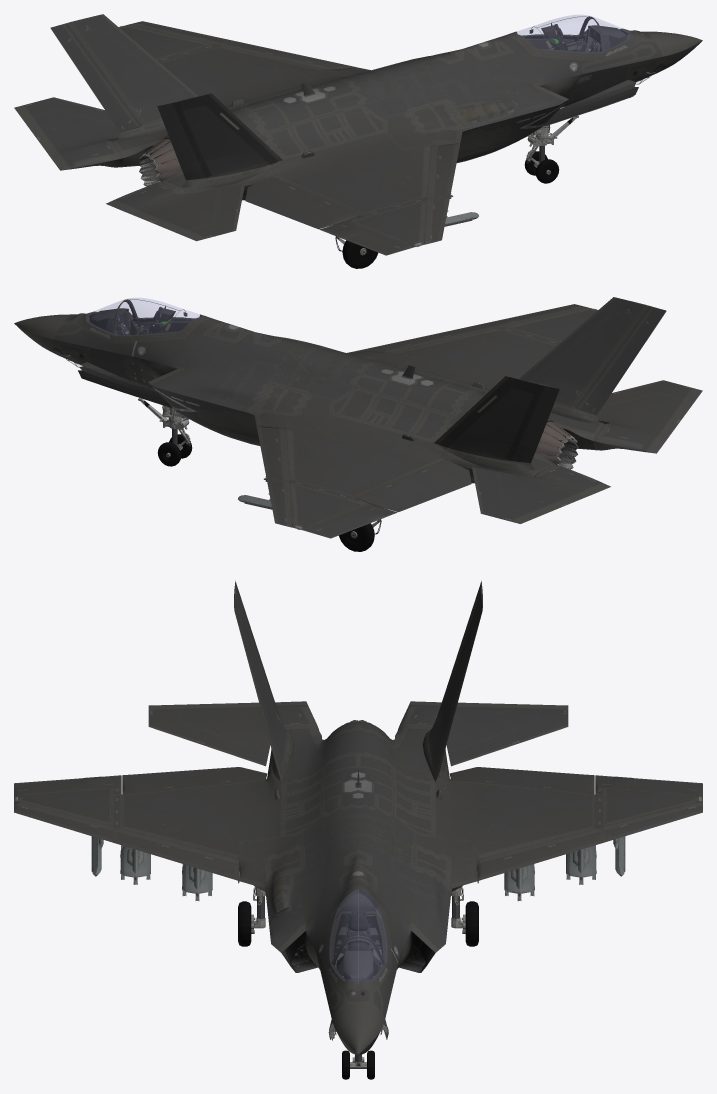
3 views of the same model, one above another, from view 1: azimuth 30°, elevation 25°; view 2: azimuth 150°, elevation 25°; view 3: azimuth 270°, elevation 25° (orthographic). The views are drawn at different scales.
Parts seen in each view (by area): view 1: f35c_airframe_0, f35c_landingOn_6, f35c_canopy_1, f35c_cockpit_2, f35c_refuelOff_8; view 2: f35c_airframe_0, f35c_landingOn_6, f35c_canopy_1, f35c_cockpit_2; view 3: f35c_airframe_0, f35c_cockpit_2, f35c_canopy_1, f35c_spw3_8agm_rail_11, f35c_landingOn_6.
Part boxes in pixels (<box>): f35c_airframe_0: <box>14,14,702,255</box>; f35c_landingOn_6: <box>335,79,638,268</box>; f35c_canopy_1: <box>516,15,630,52</box>; f35c_cockpit_2: <box>515,16,630,53</box>; f35c_refuelOff_8: <box>583,45,654,71</box>; f35c_airframe_0: <box>14,297,702,538</box>; f35c_landingOn_6: <box>78,362,381,551</box>; f35c_canopy_1: <box>87,298,200,335</box>; f35c_cockpit_2: <box>86,299,201,336</box>; f35c_airframe_0: <box>14,581,702,1055</box>; f35c_cockpit_2: <box>329,889,387,983</box>; f35c_canopy_1: <box>330,889,386,983</box>; f35c_spw3_8agm_rail_11: <box>120,845,596,900</box>; f35c_landingOn_6: <box>238,871,478,1079</box>.
Size of the model in its own units: 35.6 by 12.04 by 29.78.
5 materials, 2 textured.
